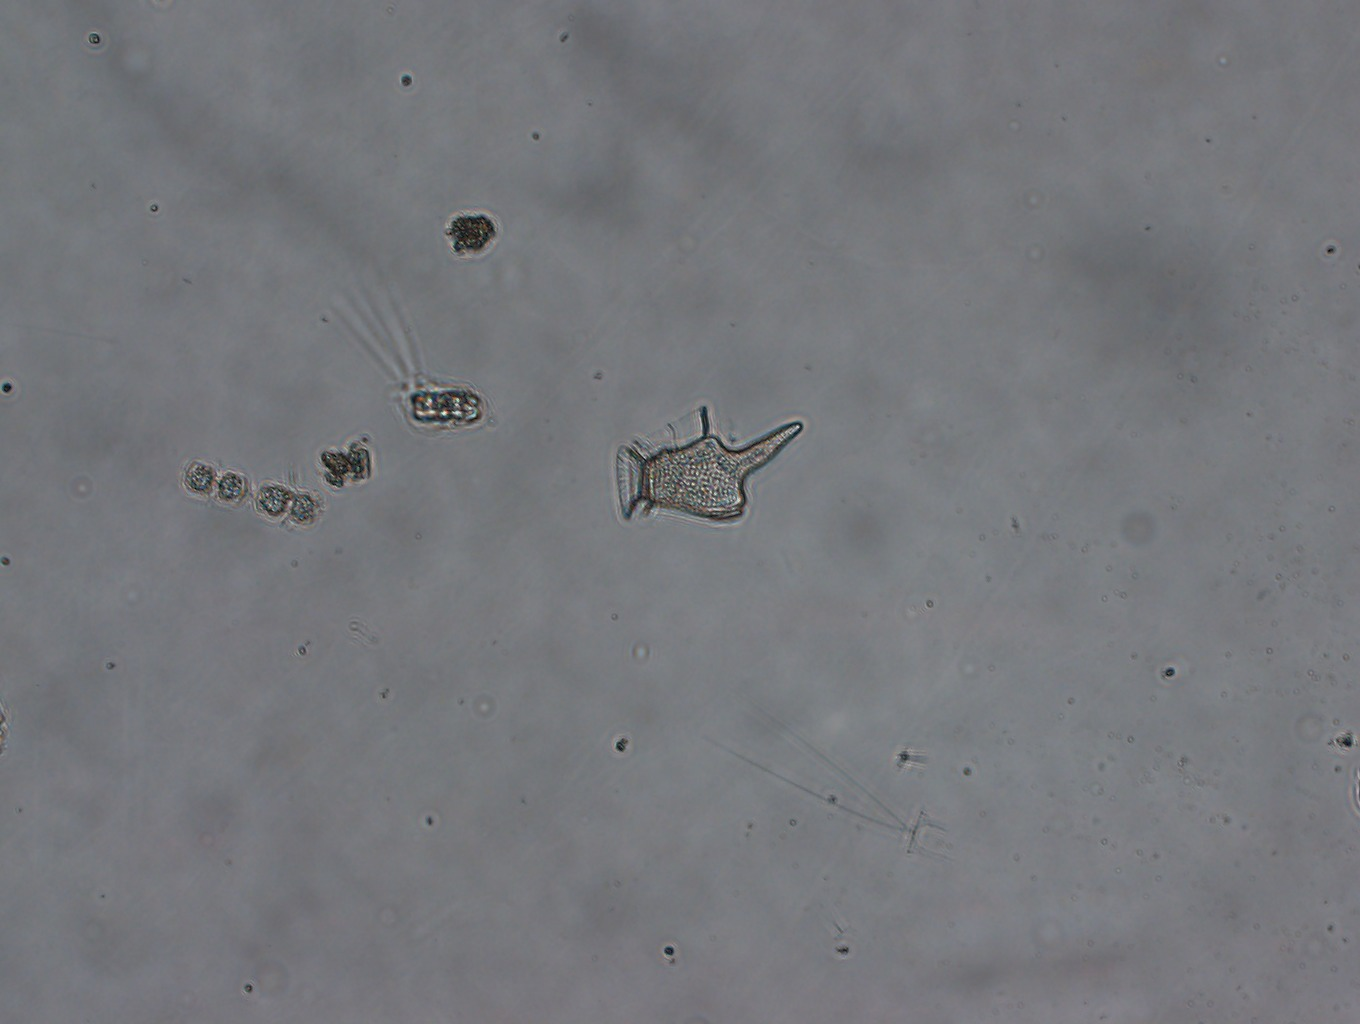chaetoceros: (171, 453, 327, 539)
dinophysis caudata: (615, 399, 808, 528)
